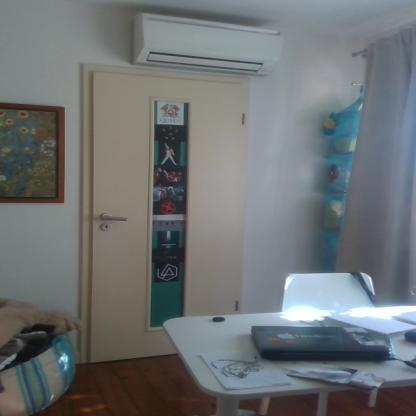door: (92, 74, 244, 363)
hinged: (241, 112, 246, 126), (235, 298, 240, 312)
lever: (101, 214, 129, 224)
